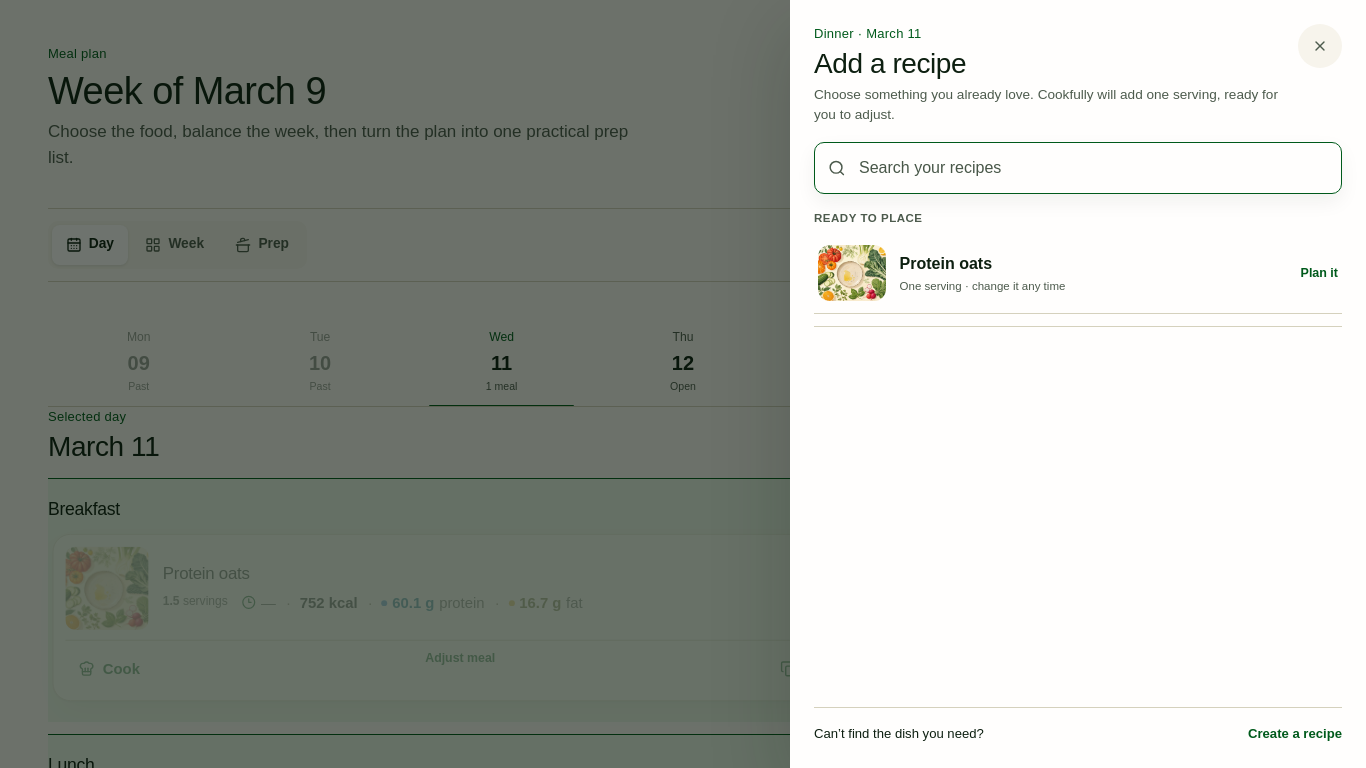
Test: goal and weekly planning UI › carries a newly saved recipe into dinner planning and then toward groceries
This screenshot has width=1366, height=768.
Expected: the text "Ready to place" is shown, [814,212,923,224]
Step 1. Click the button with aria-label "Add Protein oats to Dinner" → (852, 273), box [814,234,1342,314]
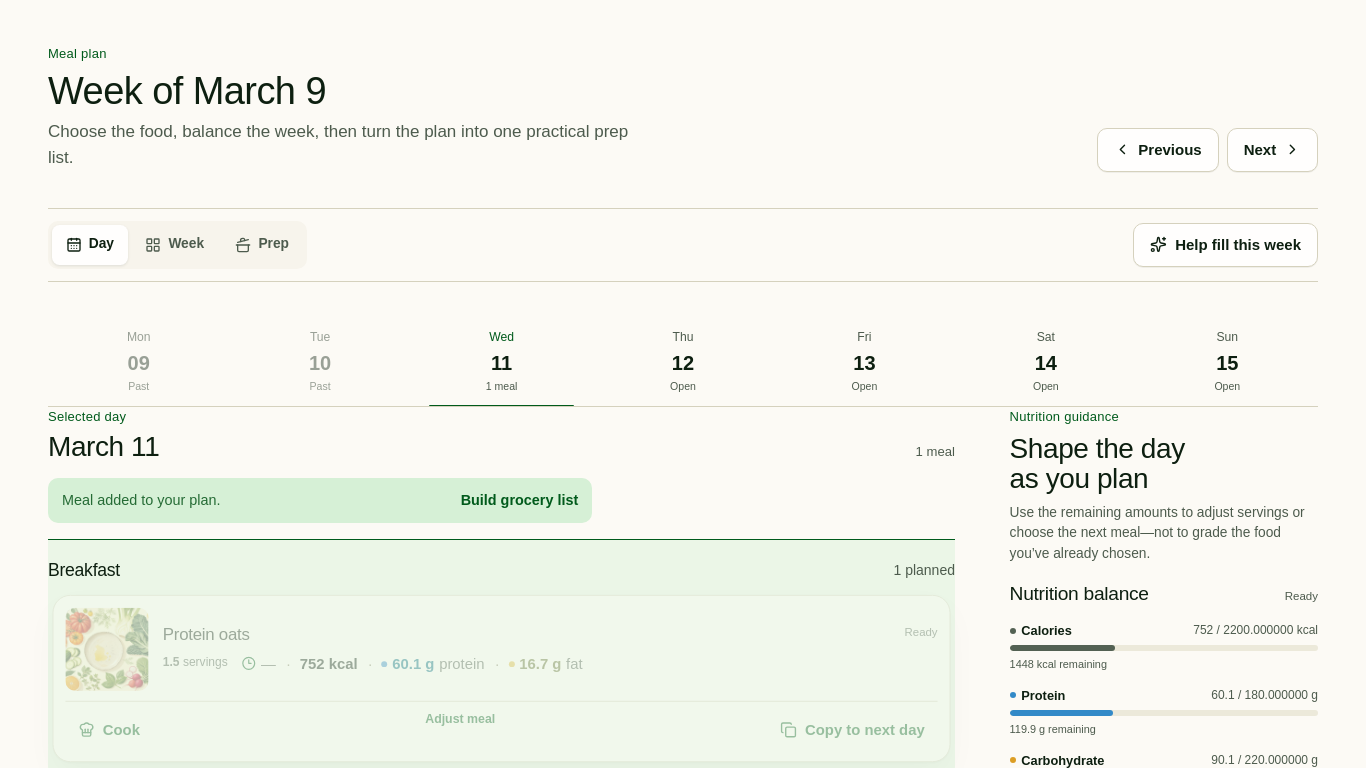
Expected: the text "Meal added to your plan." is shown, [62,490,220,511]
